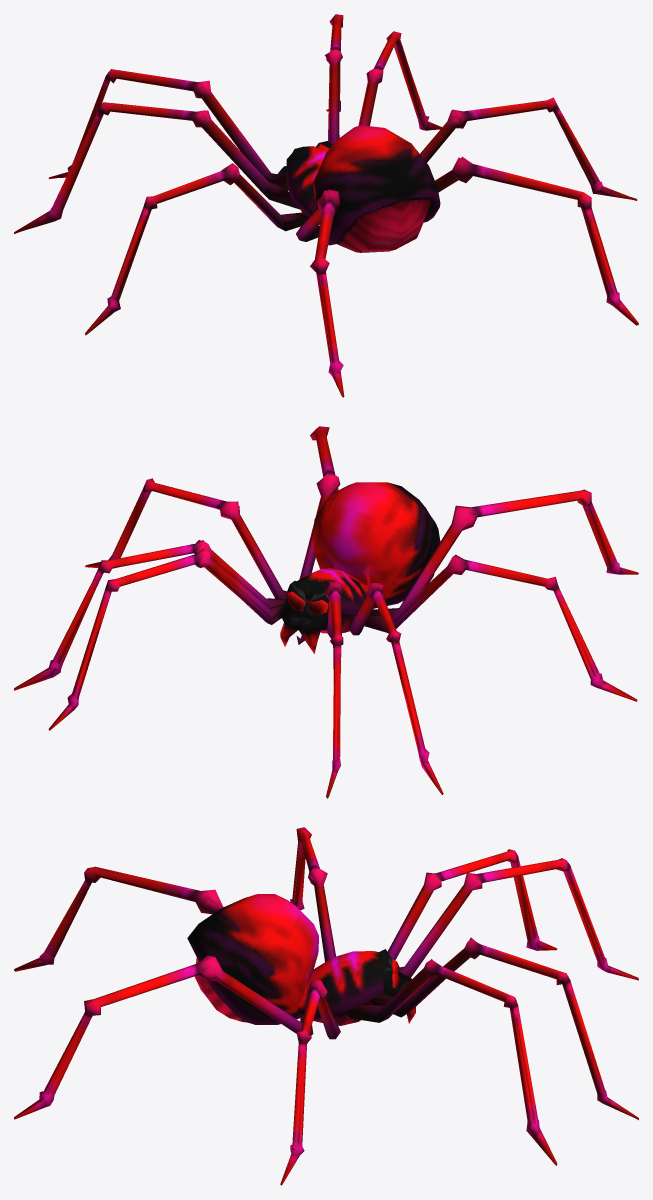
File: CHAR_SPID_POISON_RED.fbx
The picture shows the model from 3 angles, top to bottom: view 1: azimuth 30°, elevation 25°; view 2: azimuth 150°, elevation 25°; view 3: azimuth 270°, elevation 25°; orthographic projection. The views are drawn at different scales.
Visible parts, largest first — view 1: CHAR_SPID_POISON_RED; view 2: CHAR_SPID_POISON_RED; view 3: CHAR_SPID_POISON_RED.
Boxes of the visible parts, bbox=[...] form: CHAR_SPID_POISON_RED: bbox=[14, 14, 638, 397]; CHAR_SPID_POISON_RED: bbox=[14, 426, 638, 798]; CHAR_SPID_POISON_RED: bbox=[14, 827, 638, 1185].
Size of the model in its own units: 19907 by 5359 by 18900.
1 material, 1 textured.
